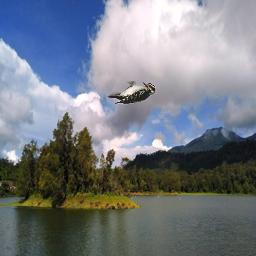Woodpecker: (106, 81, 159, 105)
